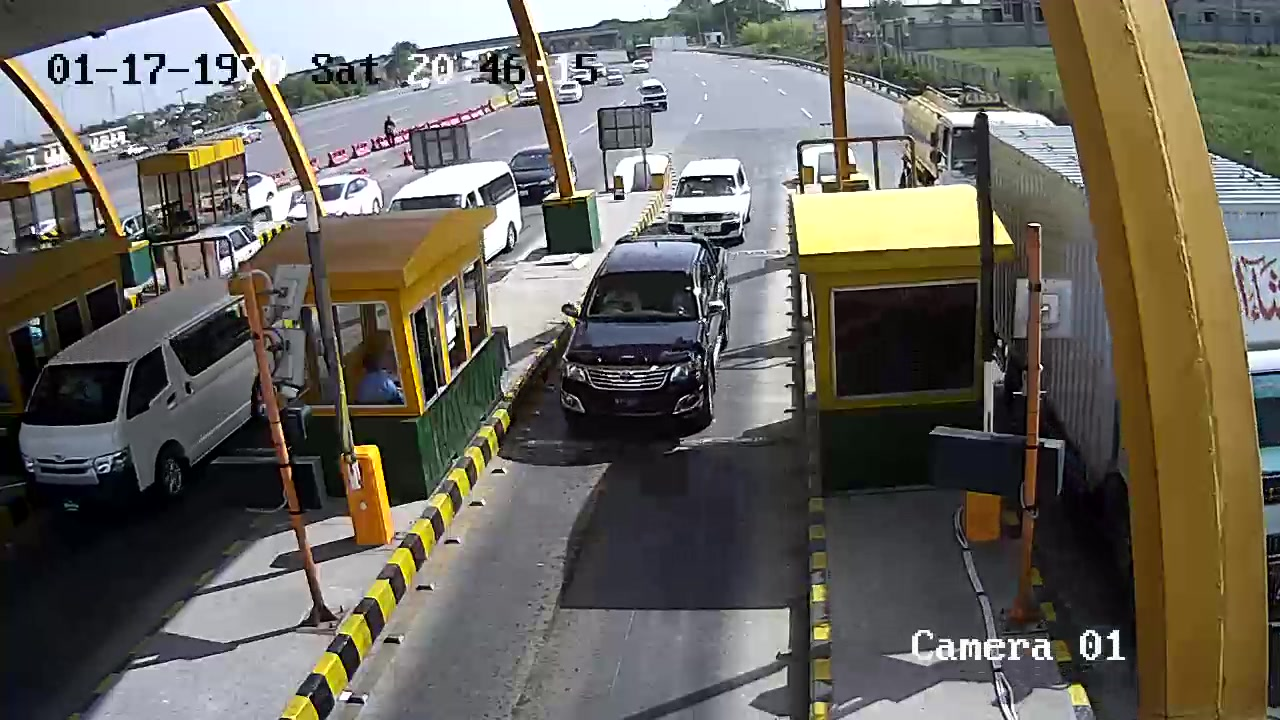F1: (565, 226, 742, 440)
